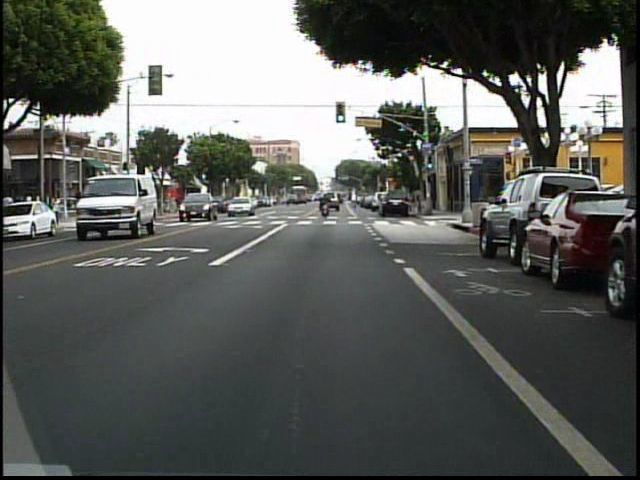person: (50, 190, 67, 230), (320, 189, 335, 219), (75, 188, 88, 220), (93, 190, 105, 221)
